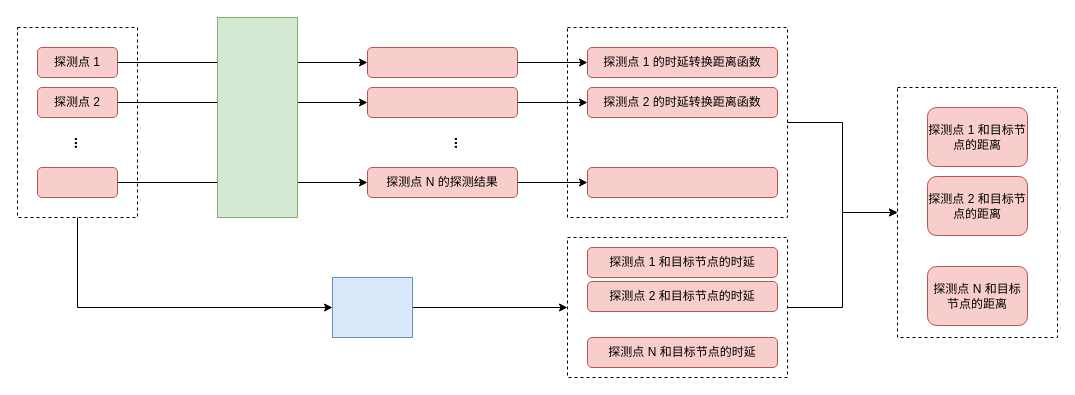
This 1075x395 diagram has some shape labels left out. Each missing label, with the centre of its shape:
"已知位置的地标节点集合" goes at pixel 257 117.
"探测点 1 的探测结果" goes at pixel 442 62.
"探测点 2 的探测结果" goes at pixel 442 102.
"探测点 N" goes at pixel 77 182.
"探测点 N 的时延转换距离函数" goes at pixel 682 182.
"目标节点" goes at pixel 372 307.
